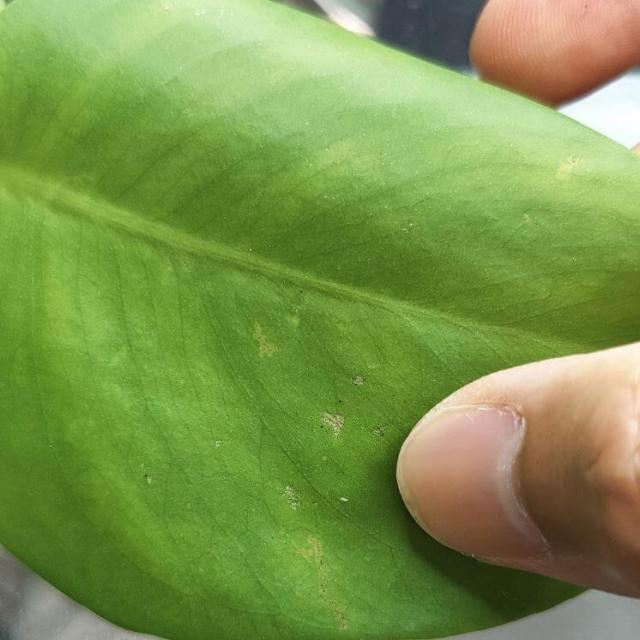Thrip-Larva-: (335, 493, 353, 504)
